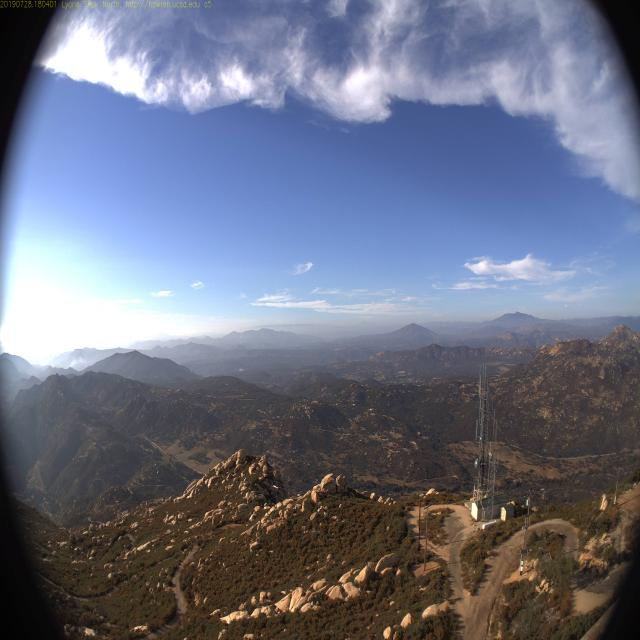smoke: (63, 351, 97, 380)
